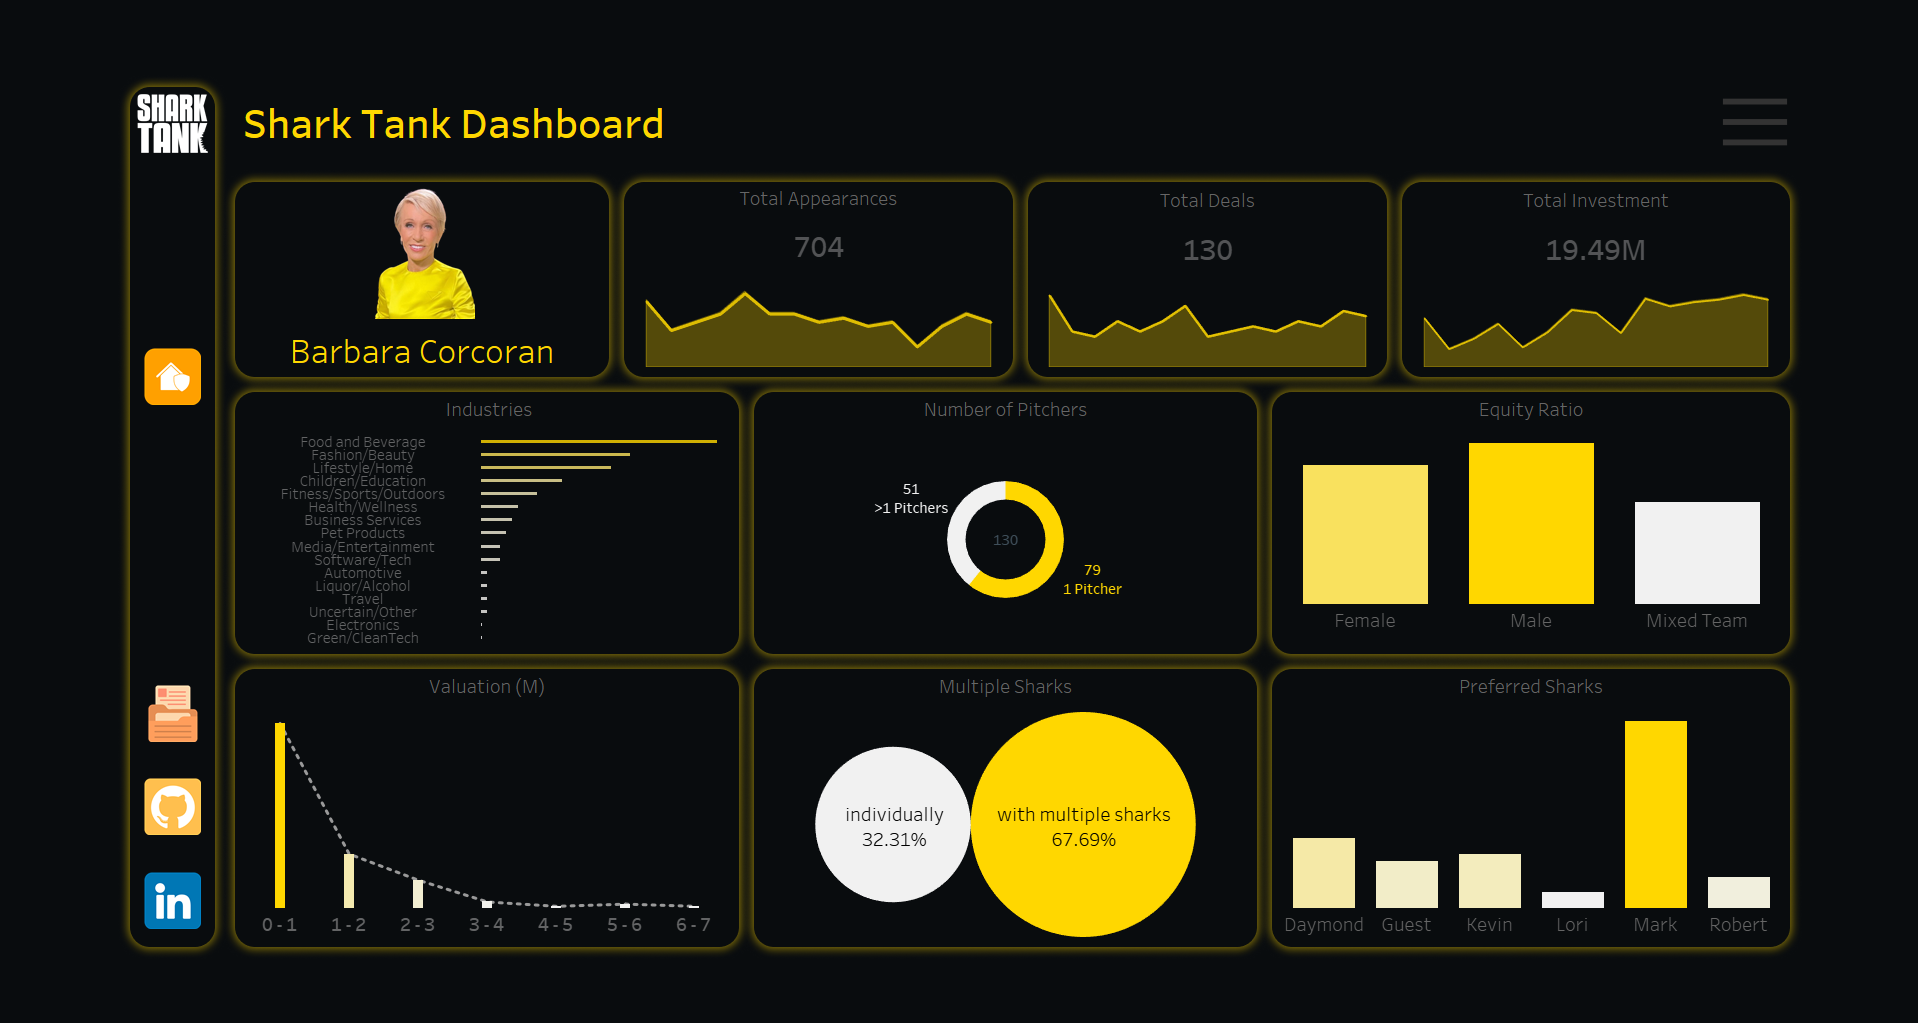

This screenshot's page, from the dashboard's own definition file:
{"tool":"tableau","page":{"name":"Barbara Dashboard","canvas":[1700,900],"ordinal":0},"visuals":[{"type":"image","param":"Image/Barbara Dashboard figma frame.png","box":[0,0,1700,900]},{"type":"image","param":"Image/Shark Tank Logo.png","box":[20,20,85,70]},{"type":"text","box":[125,20,1396,70]},{"type":"filter","title":"Barbara Top 5 Industries by No of Deals","param":"[federated.1ieom2h10l72pi1cs9e2u08v19sh].[none:industry:nk]","box":[1037,20,231,70]},{"type":"filter","title":"Barbara Appearances","param":"[federated.1ieom2h10l72pi1cs9e2u08v19sh].[none:season:ok]","box":[1268,20,253,70]},{"type":"blank","box":[1521,20,89,70]},{"type":"dashboard-object","box":[1610,20,70,70]},{"type":"blank","box":[20,90,85,156]},{"type":"image","param":"Image/Barbara Corcoran.png","box":[125,115,374,142]},{"type":"text","box":[514,115,389,32]},{"type":"text","box":[918,115,359,35]},{"type":"text","box":[1292,115,388,35]},{"type":"worksheet","title":"BAN Barbara Appearance","mark":"Text","box":[514,147,389,63]},{"type":"worksheet","title":"BAN Barbara Deals ","mark":"Text","box":[918,150,359,63]},{"type":"worksheet","title":"BAN Barbara Total Investment","mark":"Text","box":[1292,150,388,63]},{"type":"worksheet","title":"Barbara Appearances","mark":"Area","rows":["Calculation_1245245364129259524","Calculation_1245245364129259524"],"cols":["season"],"box":[514,210,389,100]},{"type":"worksheet","title":"Barbara Deals","mark":"Line","rows":["Barbara_invested","Barbara_invested"],"cols":["season"],"box":[918,213,359,97]},{"type":"worksheet","title":"Barbara Total Investment","mark":"Line","rows":["barbara_inv_amt","barbara_inv_amt"],"cols":["season"],"box":[1292,213,388,97]},{"type":"dashboard-object","box":[20,246,85,128]},{"type":"text","box":[125,257,374,53]},{"type":"text","box":[125,325,504,33]},{"type":"text","box":[644,325,503,33]},{"type":"text","box":[1162,325,518,33]},{"type":"worksheet","title":"Barbara Top 5 Industries by No of Deals","mark":"Bar","rows":["industry"],"cols":["Barbara_invested"],"box":[125,358,504,229]},{"type":"worksheet","title":"Barbara Preferences for No of Pitchers","mark":"Pie","rows":["Calculation_1245245364195418118","Calculation_1245245364195418118"],"box":[644,358,503,229]},{"type":"worksheet","title":"Barbara Preferences for Offered:Deal Ratio","mark":"Automatic","rows":["Calculation_2397322443195224066"],"cols":["gender"],"box":[1162,358,518,229]},{"type":"blank","box":[20,374,85,226]},{"type":"image","param":"Image/portfolio-folder.png","box":[20,600,85,93.3]},{"type":"text","box":[125,602,504,33]},{"type":"text","box":[644,602,503,33]},{"type":"text","box":[1162,602,518,33]},{"type":"worksheet","title":"Barbara Mode of Deal Valuation (M)","mark":"Line","rows":["data_1A36516F31B94259A03002EB3918A69C","data_1A36516F31B94259A03002EB3918A69C"],"cols":["Deal Valuation (bin)"],"box":[125,635,504,245]},{"type":"worksheet","title":"Barbara Preferences for Multi Shark Deals","mark":"Circle","box":[644,635,503,245]},{"type":"worksheet","title":"Barbara Shark Pairing Preferences","mark":"Automatic","cols":["Barbara_invested"],"box":[1162,635,518,245]},{"type":"image","param":"Image/github.png","box":[20,693.3,85,93.3]},{"type":"image","param":"Image/follow-me-on-linkedin-social-badge.png","box":[20,786.7,85,93.3]}]}

Visuals, with their boxes in screenshot pixels (x1, y1, x2, y2), scaled from the page's 1700x900 canvas onto the 1918x1023 screenshot:
image: x1=0, y1=0, x2=1917, y2=1022
image: x1=23, y1=23, x2=118, y2=102
text: x1=141, y1=23, x2=1716, y2=102
"Barbara Top 5 Industries by No of Deals" filter: x1=1170, y1=23, x2=1431, y2=102
"Barbara Appearances" filter: x1=1431, y1=23, x2=1716, y2=102
blank: x1=1716, y1=23, x2=1816, y2=102
dashboard-object: x1=1816, y1=23, x2=1895, y2=102
blank: x1=23, y1=102, x2=118, y2=280
image: x1=141, y1=131, x2=563, y2=292
text: x1=580, y1=131, x2=1019, y2=167
text: x1=1036, y1=131, x2=1441, y2=170
text: x1=1458, y1=131, x2=1895, y2=170
"BAN Barbara Appearance" worksheet (Text marks): x1=580, y1=167, x2=1019, y2=239
"BAN Barbara Deals " worksheet (Text marks): x1=1036, y1=170, x2=1441, y2=242
"BAN Barbara Total Investment" worksheet (Text marks): x1=1458, y1=170, x2=1895, y2=242
"Barbara Appearances" worksheet (Area marks): x1=580, y1=239, x2=1019, y2=352
"Barbara Deals" worksheet (Line marks): x1=1036, y1=242, x2=1441, y2=352
"Barbara Total Investment" worksheet (Line marks): x1=1458, y1=242, x2=1895, y2=352
dashboard-object: x1=23, y1=280, x2=118, y2=425
text: x1=141, y1=292, x2=563, y2=352
text: x1=141, y1=369, x2=710, y2=407
text: x1=727, y1=369, x2=1294, y2=407
text: x1=1311, y1=369, x2=1895, y2=407
"Barbara Top 5 Industries by No of Deals" worksheet (Bar marks): x1=141, y1=407, x2=710, y2=667
"Barbara Preferences for No of Pitchers" worksheet (Pie marks): x1=727, y1=407, x2=1294, y2=667
"Barbara Preferences for Offered:Deal Ratio" worksheet: x1=1311, y1=407, x2=1895, y2=667
blank: x1=23, y1=425, x2=118, y2=682
image: x1=23, y1=682, x2=118, y2=788
text: x1=141, y1=684, x2=710, y2=722
text: x1=727, y1=684, x2=1294, y2=722
text: x1=1311, y1=684, x2=1895, y2=722
"Barbara Mode of Deal Valuation (M)" worksheet (Line marks): x1=141, y1=722, x2=710, y2=1000
"Barbara Preferences for Multi Shark Deals" worksheet (Circle marks): x1=727, y1=722, x2=1294, y2=1000
"Barbara Shark Pairing Preferences" worksheet: x1=1311, y1=722, x2=1895, y2=1000
image: x1=23, y1=788, x2=118, y2=894
image: x1=23, y1=894, x2=118, y2=1000
